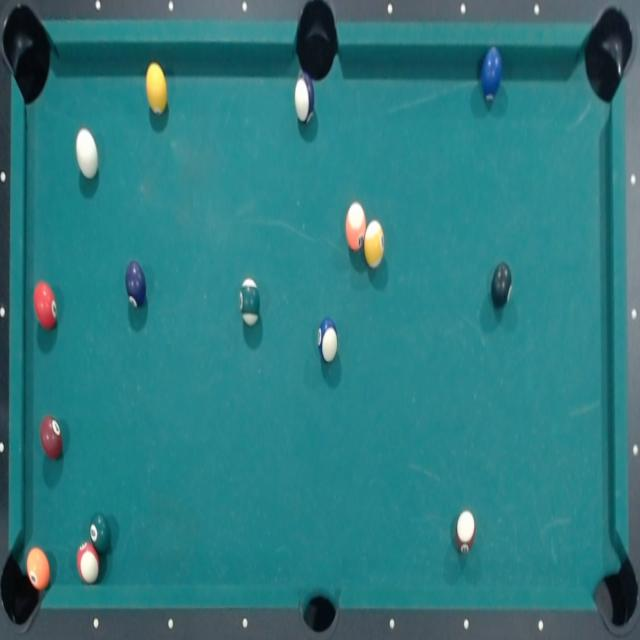black_8ball: (491, 260, 514, 313)
blue_solid: (476, 44, 507, 107)
blue_stripe: (316, 316, 341, 365)
cue_ball: (75, 126, 100, 183)
green_solid: (88, 511, 113, 554)
green_stripe: (238, 278, 262, 330)
maroon_solid: (40, 414, 64, 460)
maroon_stripe: (454, 508, 479, 556)
orange_solid: (26, 545, 52, 591)
orange_stripe: (344, 200, 366, 252)
playr: (124, 258, 148, 311)
purple_solid: (293, 73, 316, 127)
purple_stripe: (33, 280, 60, 330)
red_solid: (76, 542, 102, 584)
red_stripe: (145, 60, 170, 118)
yellow_solid: (363, 219, 386, 270)
